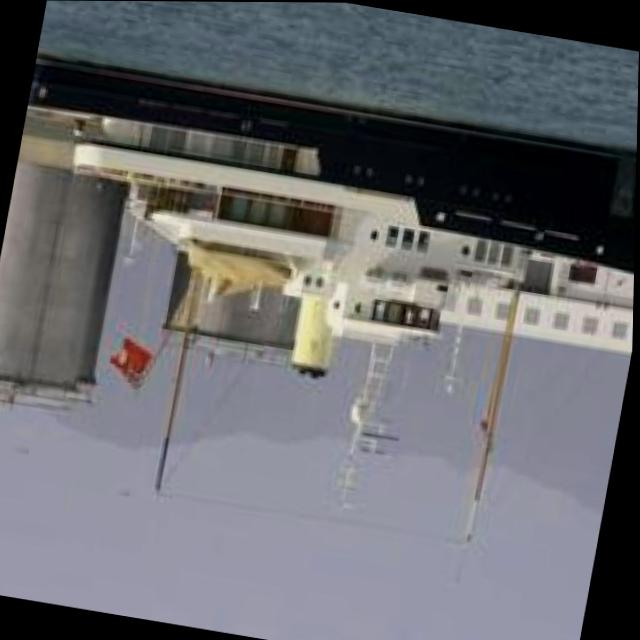ship2: (27, 53, 637, 492)
